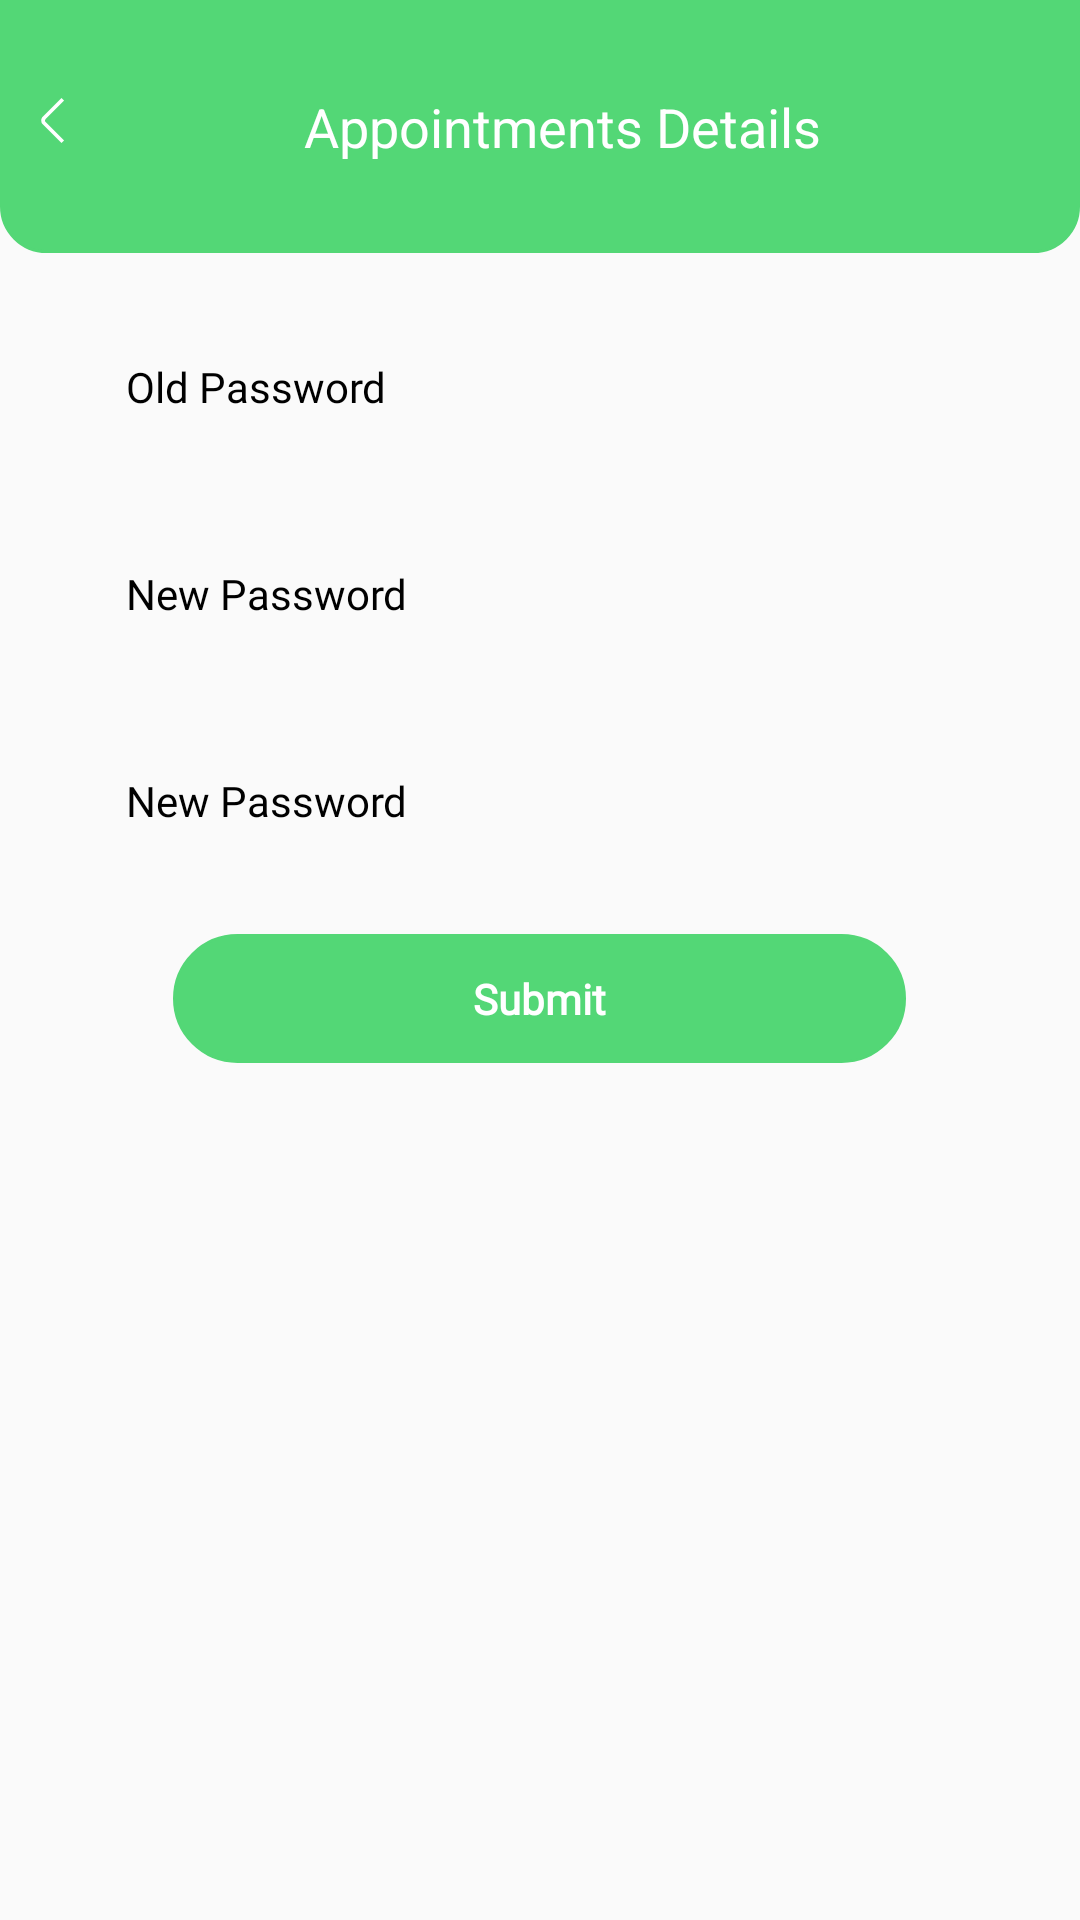

Screen size 1080*1920. Icon name, then its center in pixels as (x,y):
back: (52,120)
